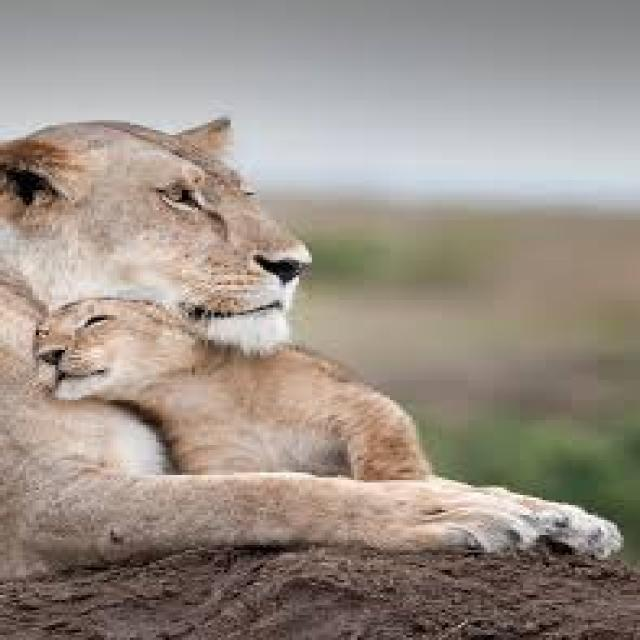Lion: (0, 120, 432, 478)
